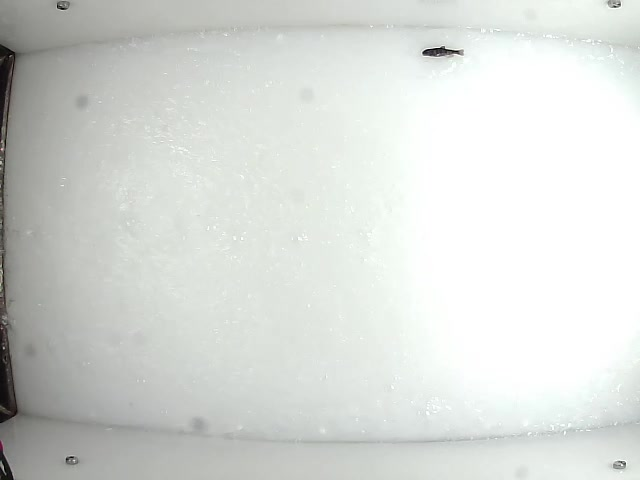fish: (419, 44, 468, 58)
